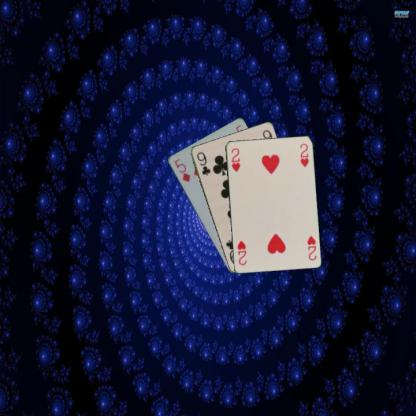2h: (304, 233, 318, 262), (229, 145, 241, 173)
5d: (172, 156, 191, 183)
9c: (194, 149, 212, 177)
